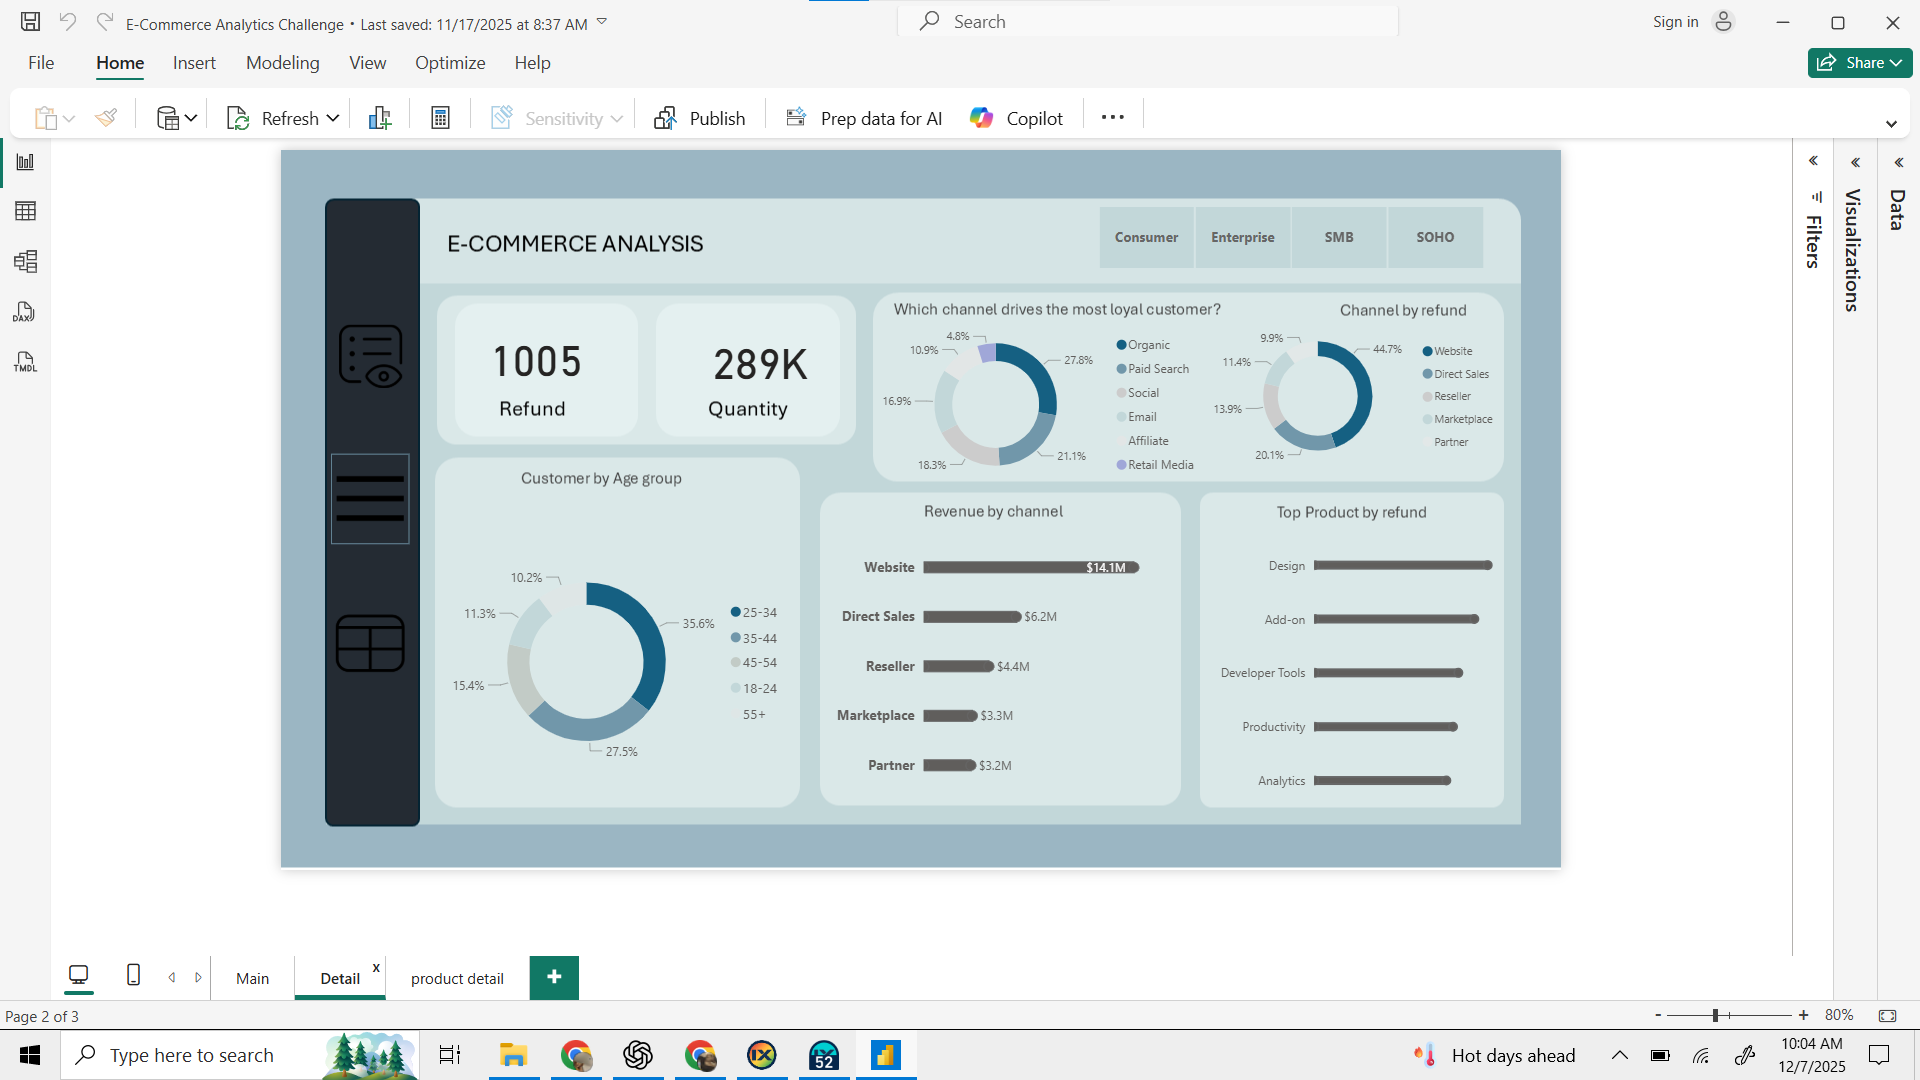

The page's visual inventory and layout, read from the dashboard file:
{"tool":"powerbi","page":{"name":"Detail","canvas":[1280,720],"ordinal":1},"visuals":[{"type":"card","fields":{"Values":["All Measures.Refund"]},"box":[157.4,165.8,196.1,81.1],"z":0},{"type":"card","fields":{"Values":["All Measures.quantity"]},"box":[381.3,174.3,196.1,72.6],"z":1000},{"type":"donutChart","fields":{"Category":["Customers.age_band"],"Y":["All Measures.Total Customers"]},"box":[157.4,303.8,353.5,416.4],"z":2000},{"type":"donutChart","fields":{"Category":["Events.channel"],"Y":["All Measures.Refund"]},"box":[927.2,165.8,299,159.8],"z":3000},{"type":"donutChart","fields":{"Category":["Customers.acquisition_channel"],"Y":["All Measures.Loyal Customers"]},"box":[589.5,165.8,337.7,176.7],"z":4000},{"type":"clusteredBarChart","fields":{"Category":["Events.channel"],"Y":["All Measures.Net Revenue Usd"]},"box":[549.6,359.5,349.8,305],"z":5000},{"type":"barChart","fields":{"Category":["Products.category"],"Y":["All Measures.Refund"]},"box":[927.2,359.5,311.1,319.6],"z":6000},{"type":"image","box":[49.6,169.5,78.7,72.6],"z":7000},{"type":"slicer","fields":{"Values":["Customers.segment"]},"box":[792.9,49.6,433.4,75.1],"z":8000},{"type":"image","box":[49.6,303.8,78.7,90.8],"z":9000},{"type":"image","box":[50,441.2,78.8,103.8],"z":9001}]}

Visuals, with their boxes on the page's 1280x720 design canvas (x1, y1, x2, y2). These are canvas units, not pixel positions in the 1920x1080 screenshot, which may show the page scaled, cropped or inside an application window:
card - All Measures.Refund: bbox(157, 166, 354, 247)
card - All Measures.quantity: bbox(381, 174, 577, 247)
donutChart - Customers.age_band x All Measures.Total Customers: bbox(157, 304, 511, 720)
donutChart - Events.channel x All Measures.Refund: bbox(927, 166, 1226, 326)
donutChart - Customers.acquisition_channel x All Measures.Loyal Customers: bbox(590, 166, 927, 342)
clusteredBarChart - Events.channel x All Measures.Net Revenue Usd: bbox(550, 360, 899, 664)
barChart - Products.category x All Measures.Refund: bbox(927, 360, 1238, 679)
image: bbox(50, 170, 128, 242)
slicer - Customers.segment: bbox(793, 50, 1226, 125)
image: bbox(50, 304, 128, 395)
image: bbox(50, 441, 129, 545)
